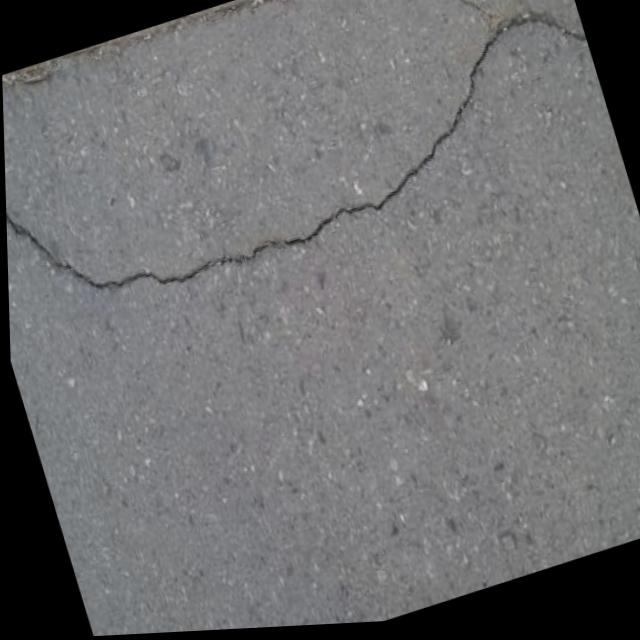Crack: (0, 0, 626, 363)
